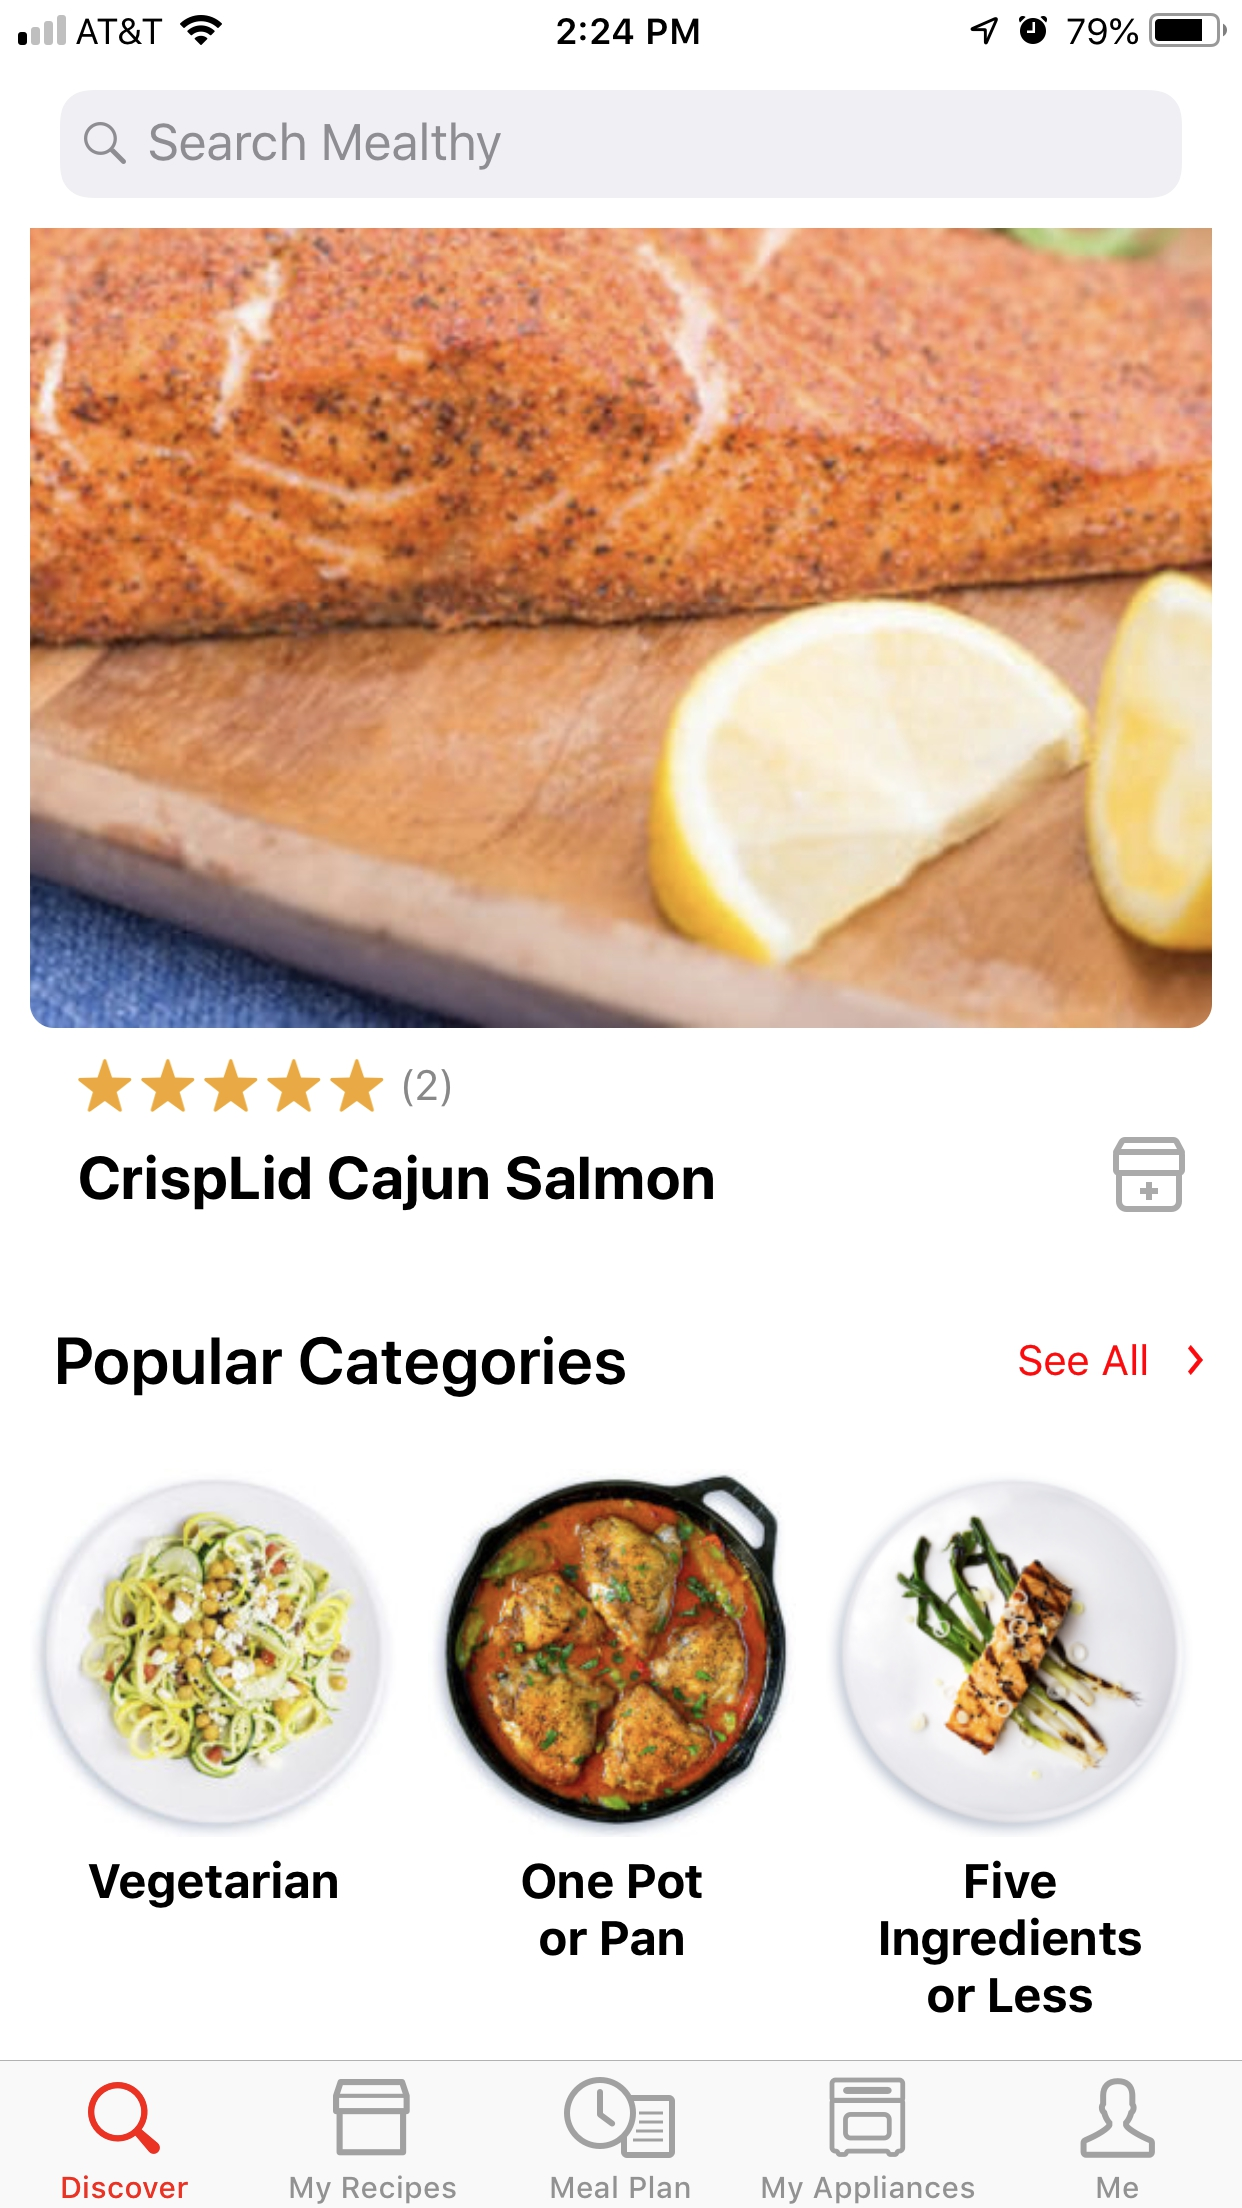EditText: (61, 91, 1183, 200)
Icon: (77, 1059, 385, 1113), (564, 2076, 676, 2159), (1080, 2078, 1156, 2159), (89, 2081, 162, 2155), (83, 121, 127, 165), (1187, 1345, 1204, 1375)
Image: (30, 227, 1212, 1030), (444, 1474, 789, 1827), (42, 1479, 391, 1826), (839, 1480, 1184, 1830), (828, 2078, 905, 2158), (334, 2078, 411, 2156), (1112, 1136, 1186, 1213)
Text: (880, 1861, 1142, 2014), (80, 1153, 714, 1212), (58, 1335, 626, 1398), (152, 121, 502, 171), (523, 1862, 701, 1952), (86, 1861, 338, 1908), (761, 2175, 975, 2205), (290, 2175, 456, 2203), (1019, 1344, 1146, 1377), (550, 2175, 692, 2199), (64, 2175, 190, 2199), (403, 1068, 450, 1109), (1096, 2176, 1139, 2199)
UpperTaskBar: (2, 2, 1242, 49)
